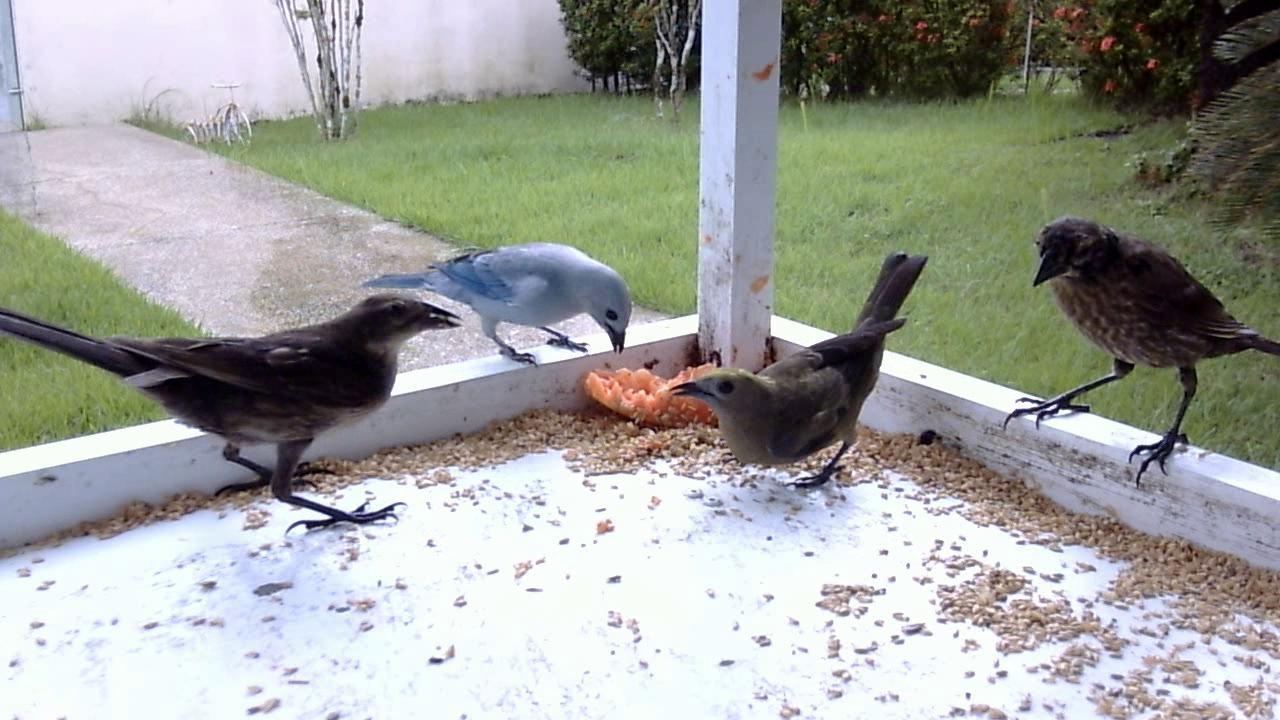chupim: (1, 250, 472, 554), (996, 200, 1280, 507)
sanhaco_da_amazonia: (384, 236, 633, 371)
sanhaco_do_coqueiro: (658, 253, 936, 502)
